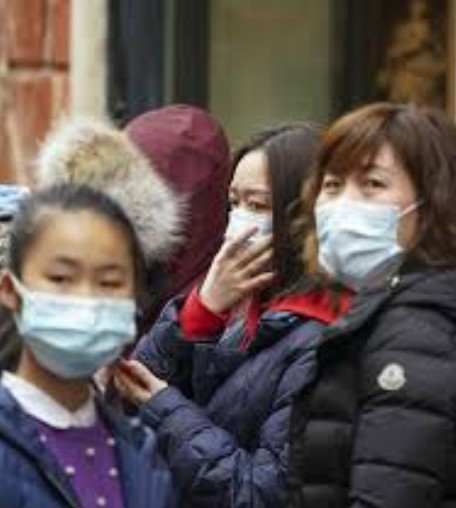face_with_mask: (9, 184, 146, 380), (318, 108, 445, 294), (221, 138, 320, 287)
